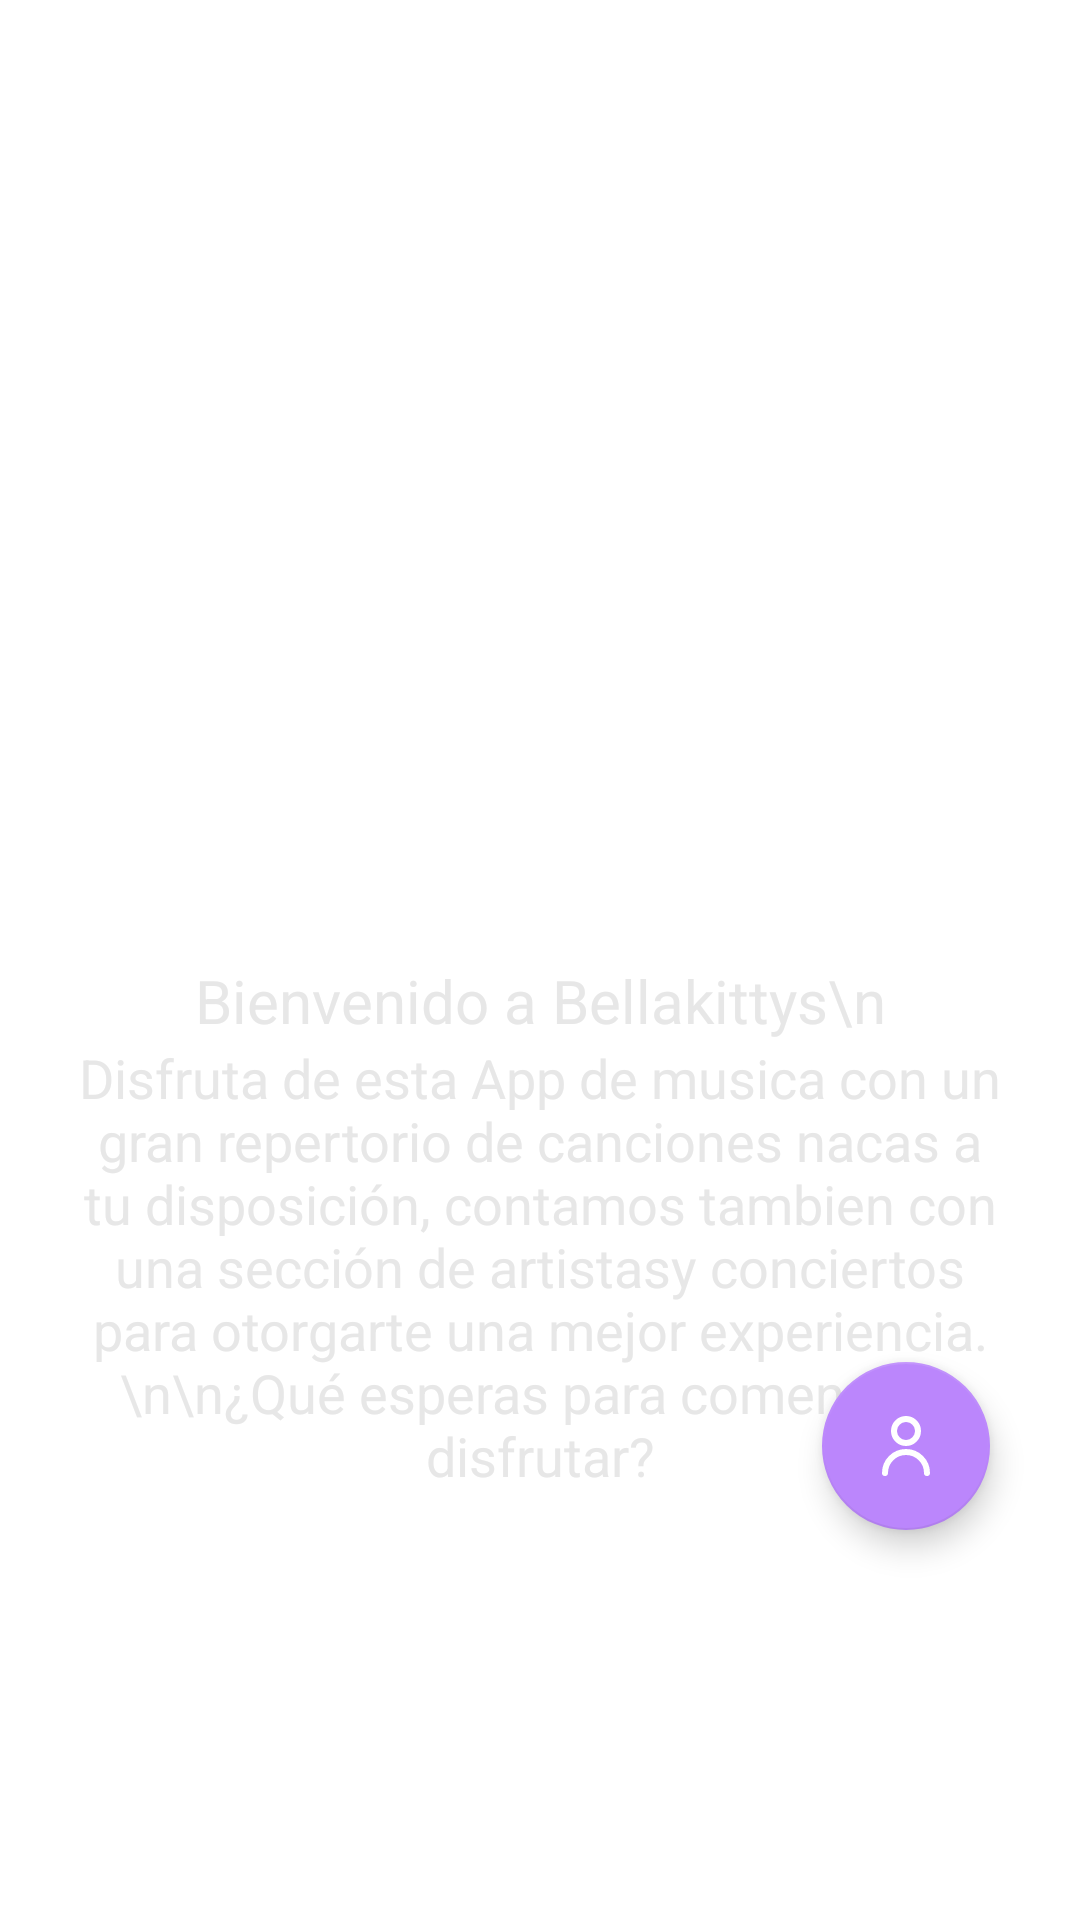

Where icons sit on this 1080×1920 app screen, as (x1, y1, x2, y2):
user: (822, 1362, 990, 1530)
